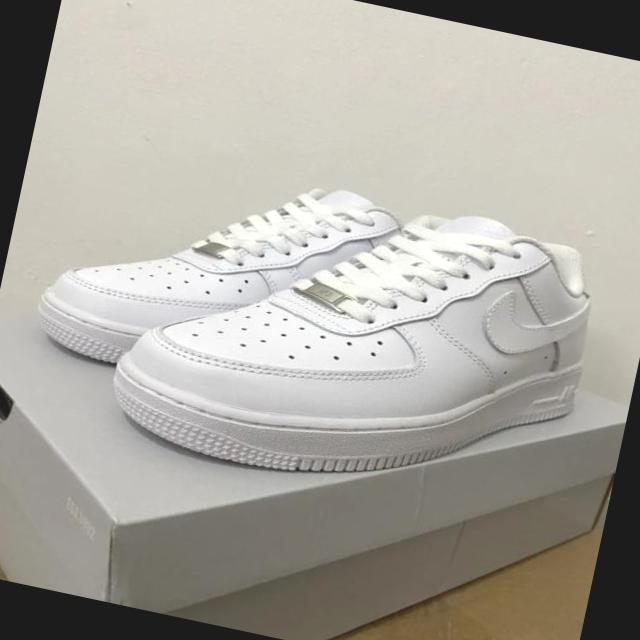nike_original_airforce: (95, 148, 610, 530), (30, 137, 445, 430)
